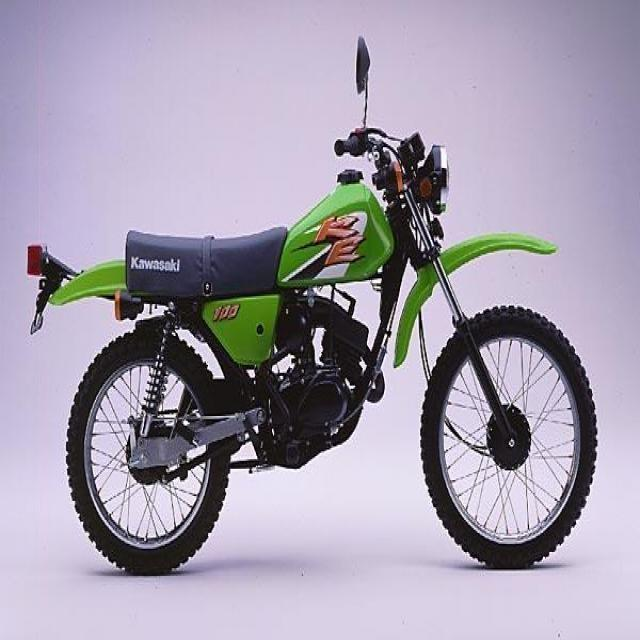Motorcycle: (27, 94, 603, 574)
